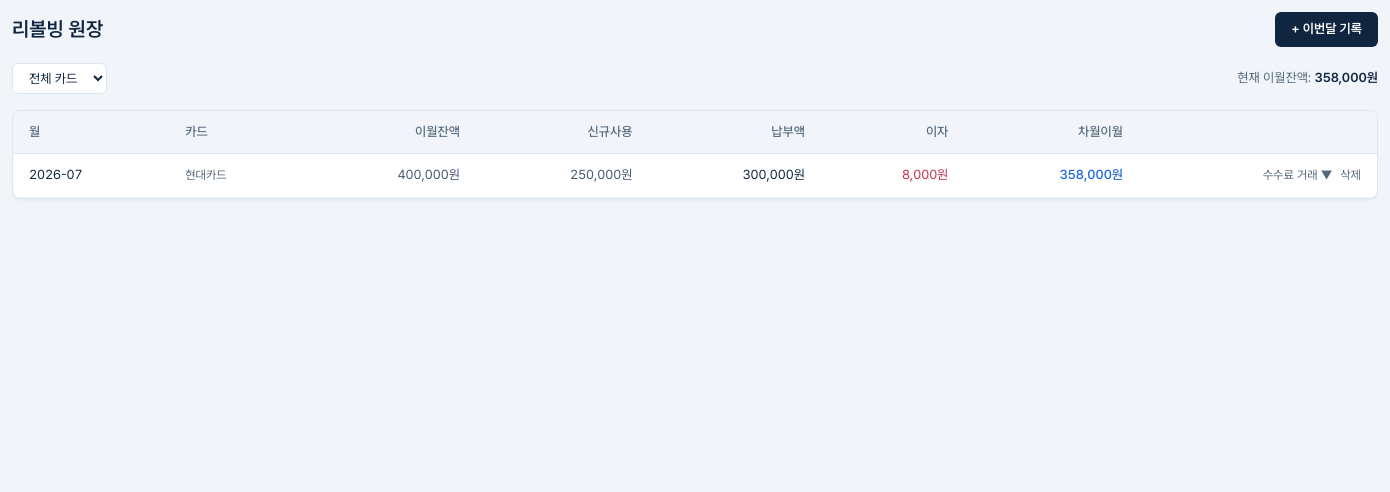
Test: 월 기록 등록 › 저장에 성공하면 폼을 닫고 목록을 다시 읽는다
Click the button "+ 이번달 기록".
click(1327, 29)  # box [1275,12,1378,47]
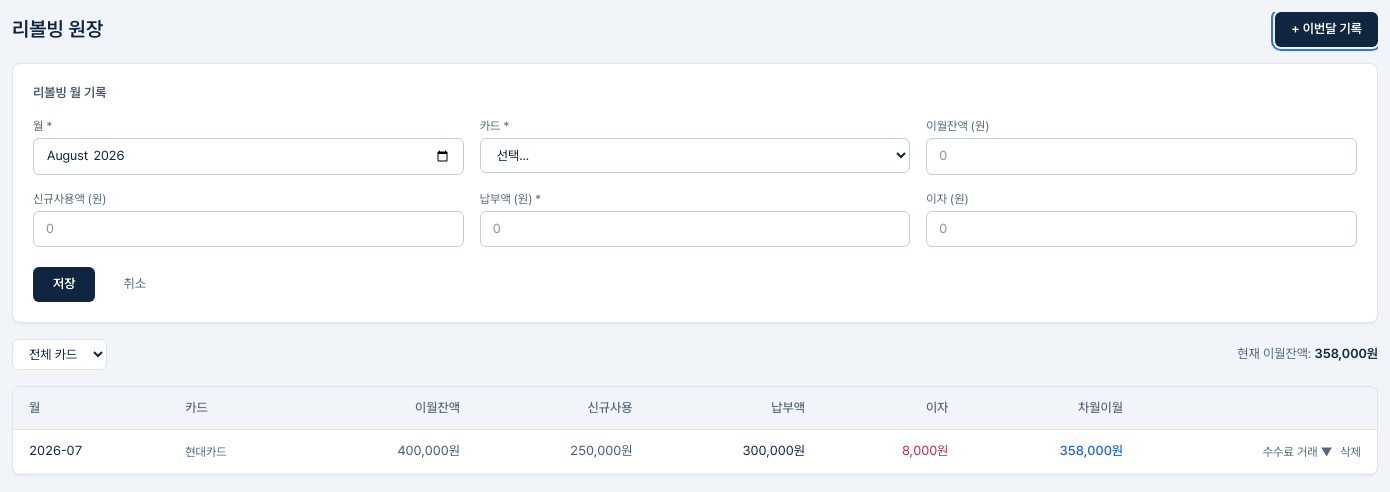
Select "현대카드" in the dropdown labelled "카드 *" at (695, 156), box [480,138,910,173]
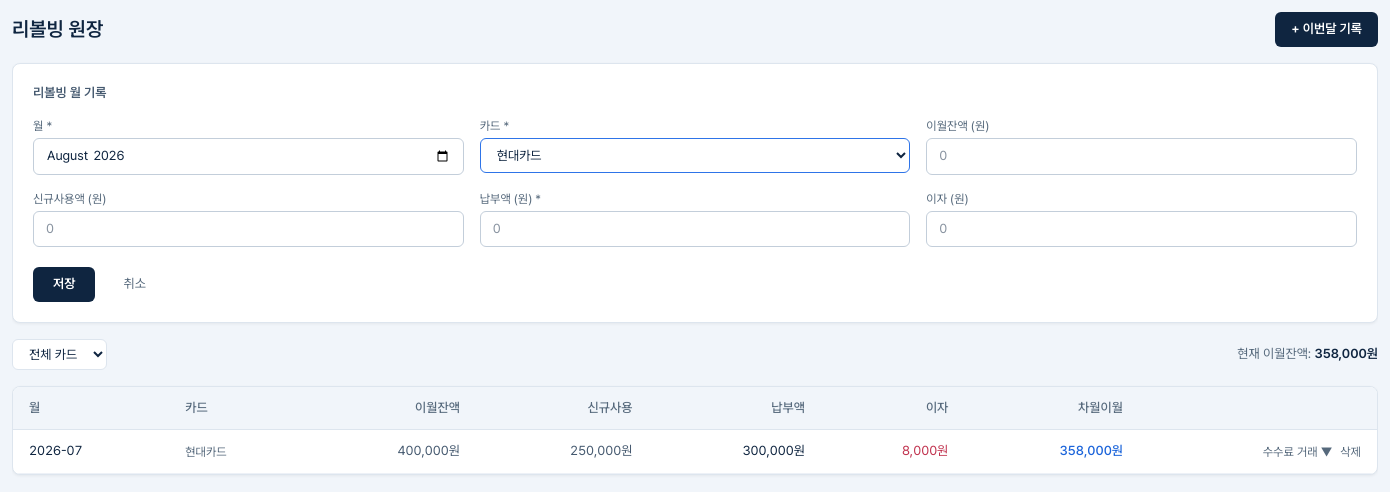
Type "100000" into the number field labelled "납부액 (원) *".
click(695, 229); type("100000")  # box [480,211,910,247]
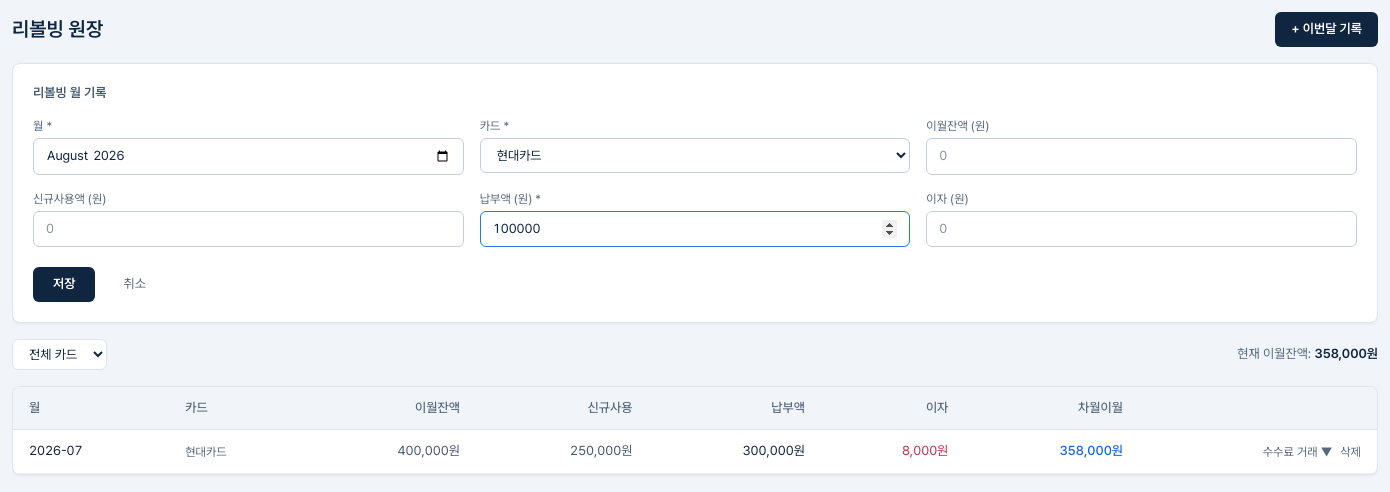
Click the button "저장".
click(64, 285)  # box [33,267,96,302]
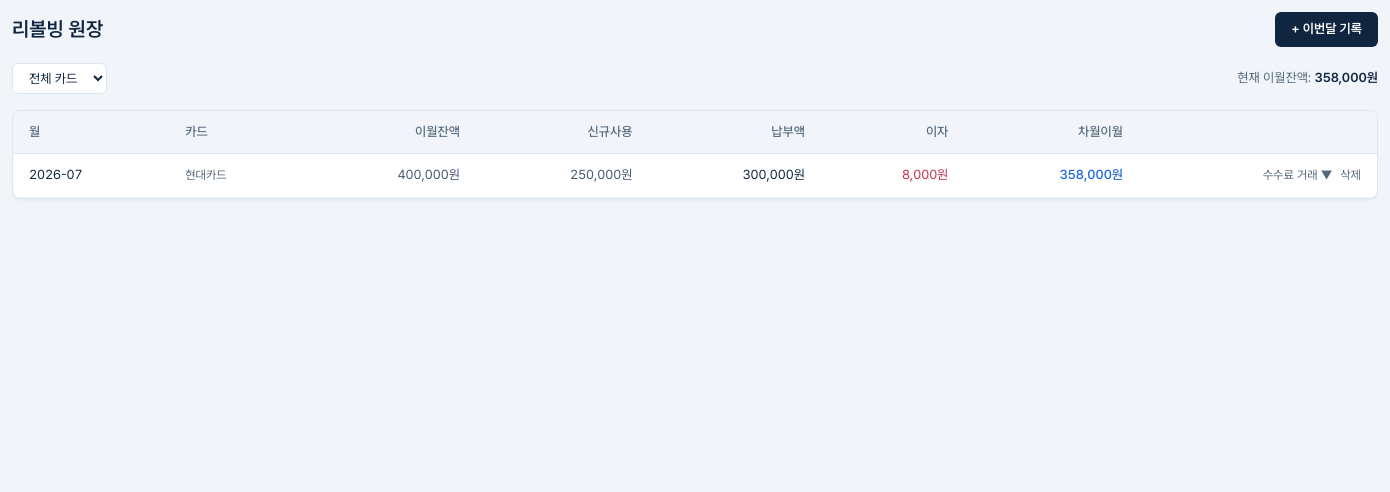
Now the heading "리볼빙 월 기록" is gone
